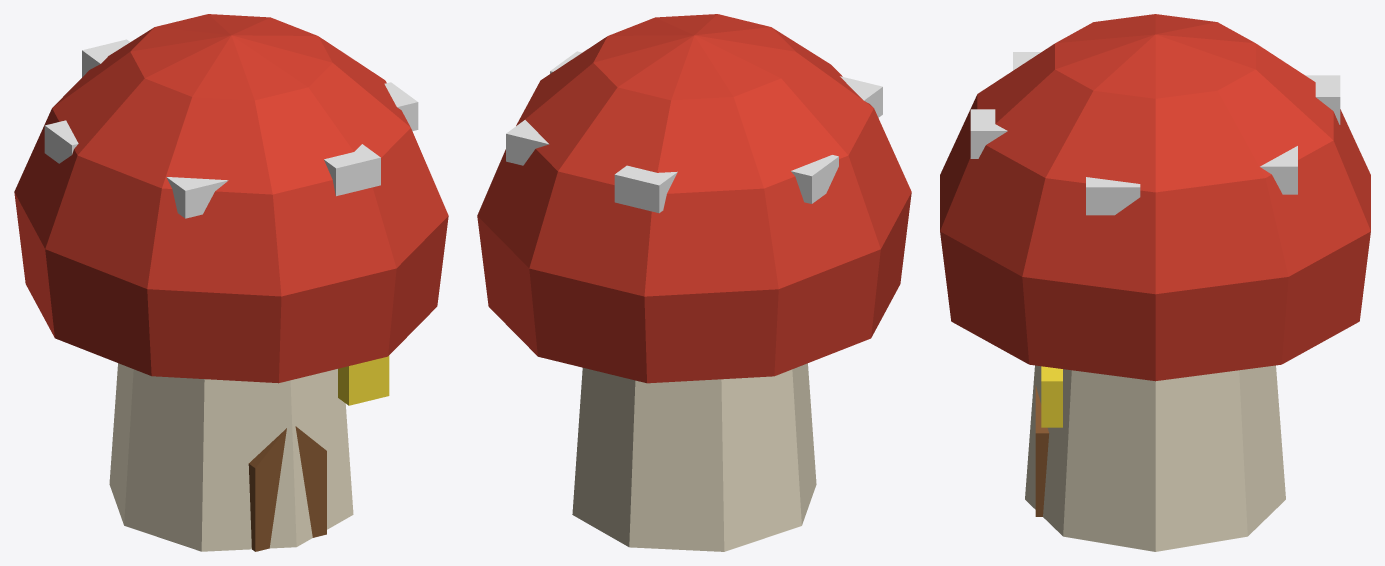
The model's file is env_r6_giant_toadstool_house.glb.
3 views of the same model, side by side, from view 1: azimuth 30°, elevation 25°; view 2: azimuth 150°, elevation 25°; view 3: azimuth 270°, elevation 25° (orthographic).
Parts seen in each view (by area): view 1: env_r6_giant_toadstool_house; view 2: env_r6_giant_toadstool_house; view 3: env_r6_giant_toadstool_house.
Part boxes in pixels (left/top/right/bottom): env_r6_giant_toadstool_house: left=14, top=14, right=448, bottom=551; env_r6_giant_toadstool_house: left=477, top=14, right=911, bottom=551; env_r6_giant_toadstool_house: left=940, top=14, right=1370, bottom=551.
Size of the model in its own units: 4.2 by 5 by 4.2.
Materials: 1 (1 with a texture image).
